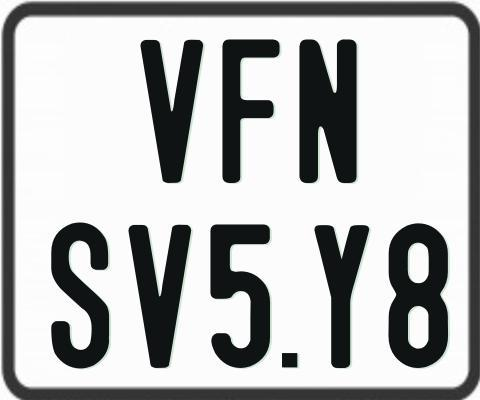5: (209, 223, 273, 366)
8: (386, 222, 449, 369)
F: (220, 38, 281, 181)
N: (296, 38, 357, 183)
S: (49, 220, 107, 365)
V: (126, 223, 193, 369), (139, 38, 206, 181)
Y: (312, 225, 366, 368)
